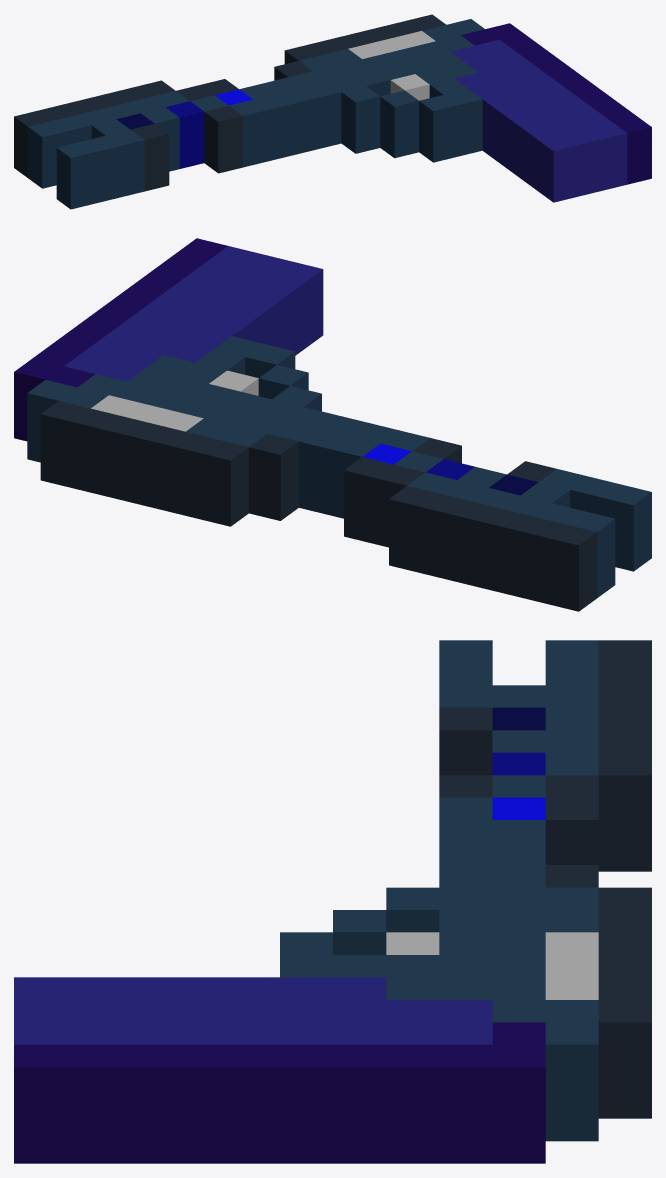
Rendered from Pistol(tire éclaire).obj.
3 views of the same model, one above another, from view 1: azimuth 30°, elevation 25°; view 2: azimuth 150°, elevation 25°; view 3: azimuth 270°, elevation 25° (orthographic). The views are drawn at different scales.
Bounding box in the file's own units: 1.9 × 0.2 × 1.2.
Materials: 1 (1 with a texture image).
